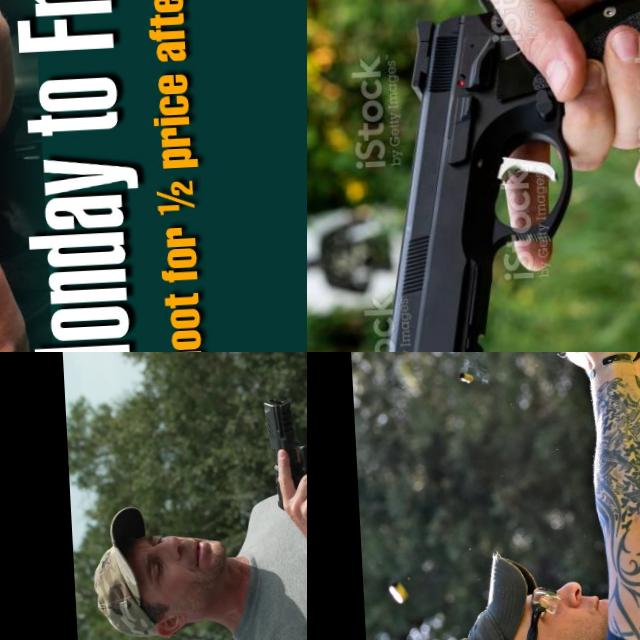handgun: (339, 0, 587, 352), (0, 0, 77, 132), (259, 392, 307, 509), (535, 352, 593, 426)
